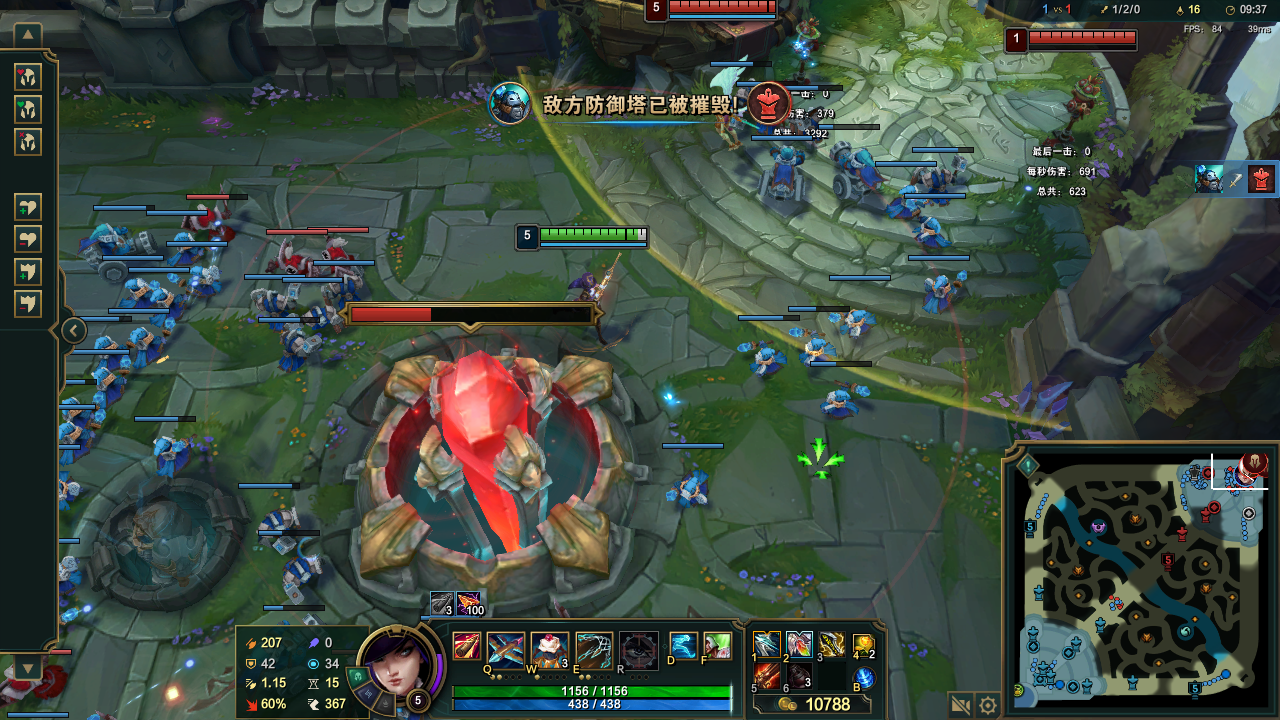DFDSJ: (341, 355, 651, 578)
DFYX: (1031, 29, 1115, 40), (670, 1, 771, 8)
